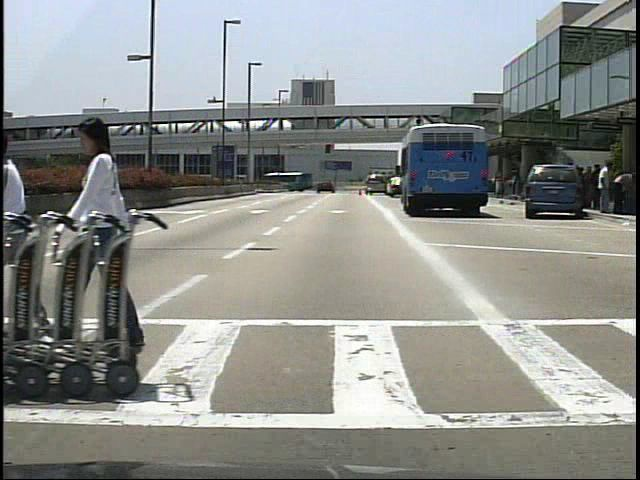person: (62, 104, 158, 353), (4, 121, 80, 340), (598, 160, 619, 213), (590, 163, 605, 212)
